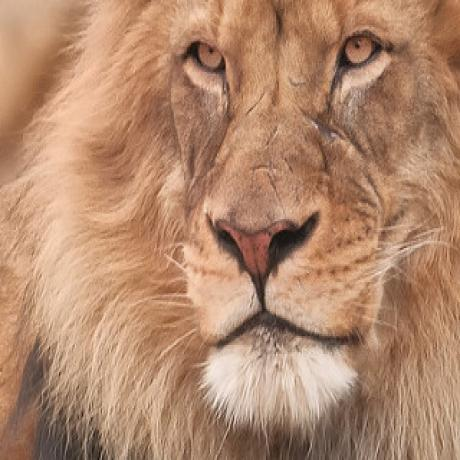Lion: (0, 0, 460, 456)
